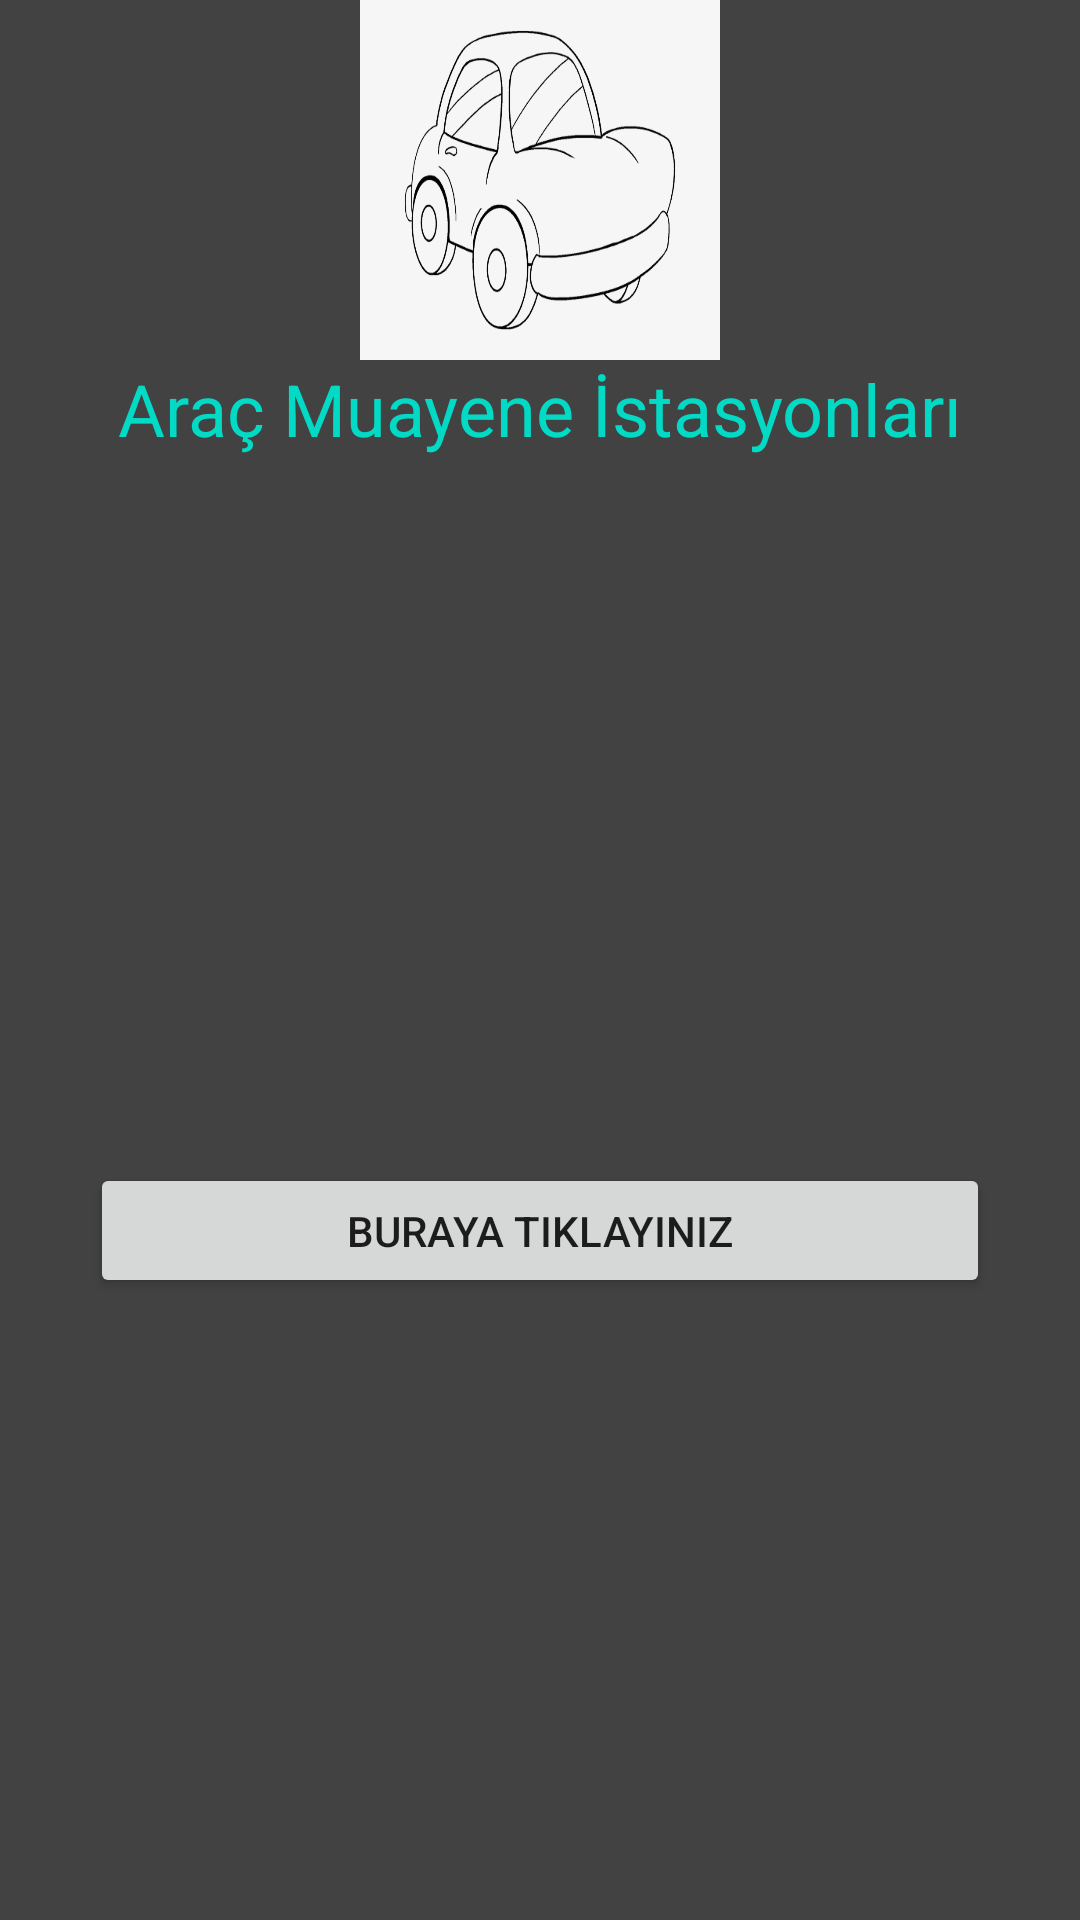

Icon click points for this 1080 x 1920 phone screenshot, format (x,y):
araba: (540,180)
